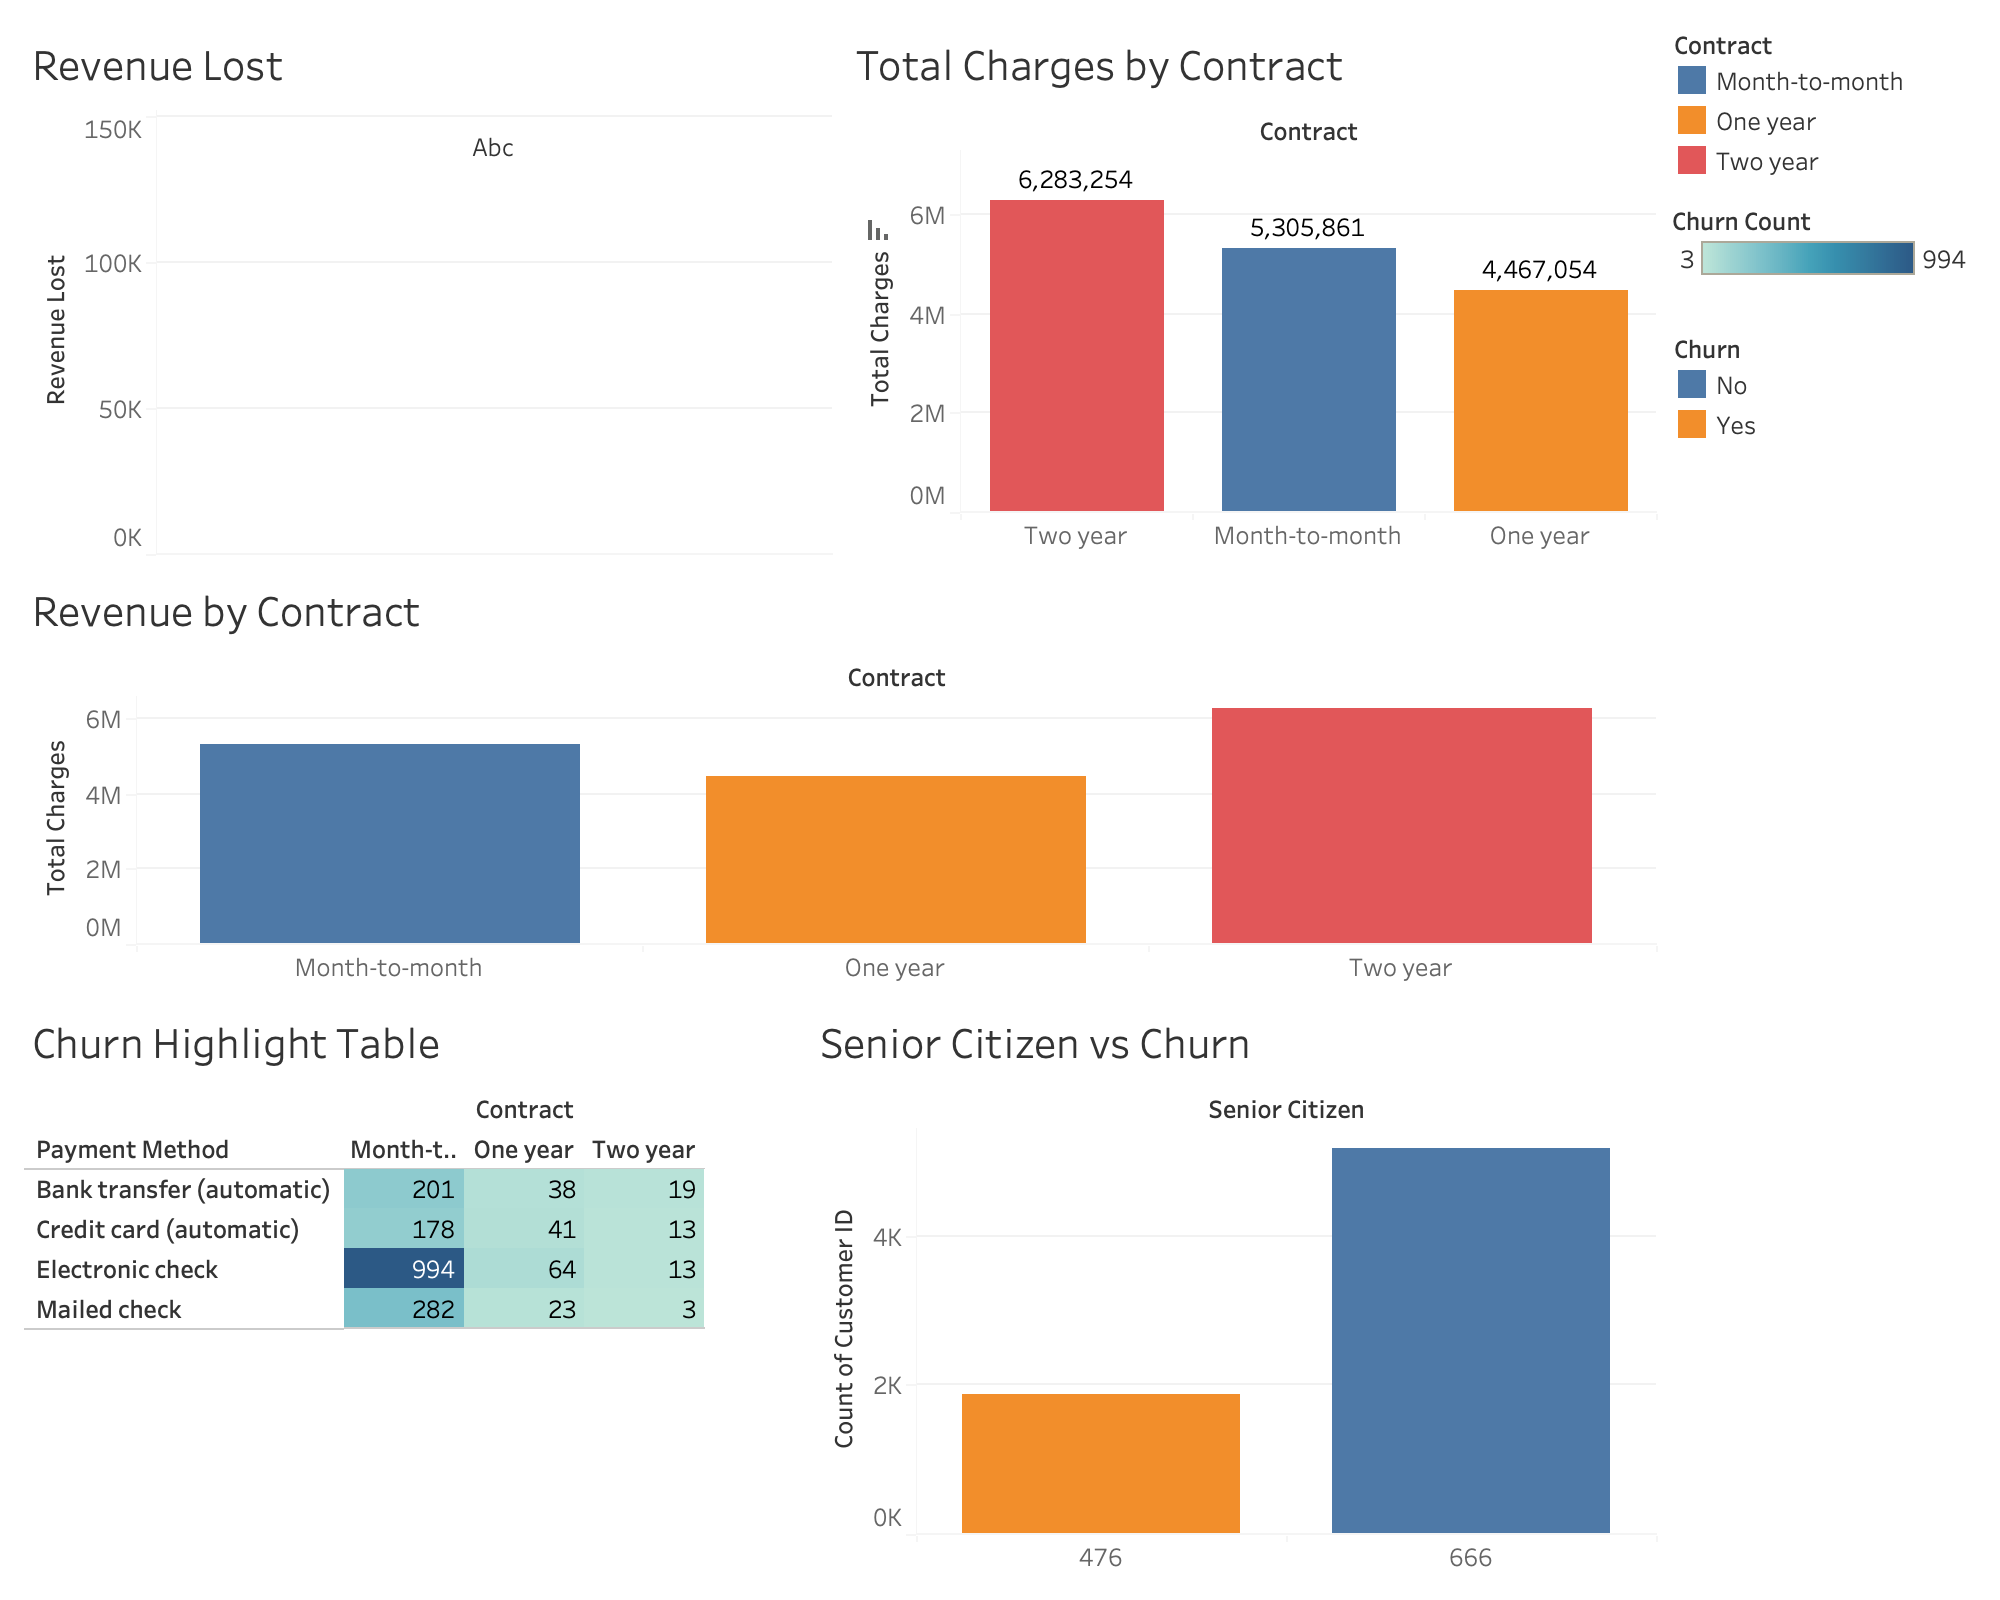

Layout of this report page (visuals, bound fields, positions):
{"tool":"tableau","page":{"name":"Revenue & Segments","canvas":[1000,800],"ordinal":2},"visuals":[{"type":"worksheet","title":"Revenue Lost","mark":"Text","rows":["Calculation_0123056767578116"],"box":[8,8,412,273]},{"type":"worksheet","title":"Total Charges by Contract","mark":"Bar","rows":["TotalCharges"],"cols":["Contract"],"box":[420,8,412,273]},{"type":"legend","title":"Total Charges by Contract","param":"[federated.0icyj1y0edcubi1bv8d2u0jglee3].[none:Contract:nk]","box":[832,8,160,86]},{"type":"legend","title":"Churn Highlight Table","param":"[federated.0icyj1y0edcubi1bv8d2u0jglee3].[usr:Calculation_0588700607098880:qk]","box":[832,94,160,65]},{"type":"legend","title":"Senior Citizen vs Churn","param":"[federated.0icyj1y0edcubi1bv8d2u0jglee3].[none:Churn:nk]","box":[832,159,160,241]},{"type":"worksheet","title":"Revenue by Contract","mark":"Automatic","rows":["TotalCharges"],"cols":["Contract"],"box":[8,281,824,216]},{"type":"worksheet","title":"Churn Highlight Table","mark":"Square","rows":["PaymentMethod"],"cols":["Contract"],"box":[8,497,394,295]},{"type":"worksheet","title":"Senior Citizen vs Churn","mark":"Automatic","rows":["customerID"],"cols":["SeniorCitizen"],"box":[402,497,430,295]}]}

Visuals, with their boxes in screenshot pixels (x1, y1, x2, y2), scaled from the page's 1000x800 canvas onto the 2000x1600 screenshot:
"Revenue Lost" worksheet (Text marks): [16, 16, 840, 562]
"Total Charges by Contract" worksheet (Bar marks): [840, 16, 1664, 562]
"Total Charges by Contract" legend: [1664, 16, 1984, 188]
"Churn Highlight Table" legend: [1664, 188, 1984, 318]
"Senior Citizen vs Churn" legend: [1664, 318, 1984, 800]
"Revenue by Contract" worksheet: [16, 562, 1664, 994]
"Churn Highlight Table" worksheet (Square marks): [16, 994, 804, 1584]
"Senior Citizen vs Churn" worksheet: [804, 994, 1664, 1584]
